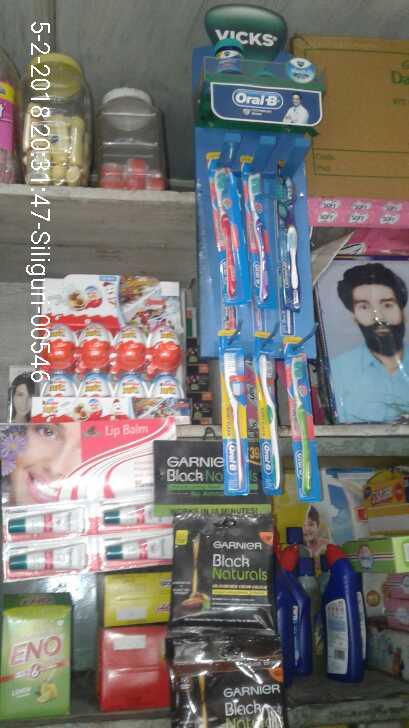pharmacy: (282, 355, 321, 495), (253, 353, 289, 492), (213, 158, 244, 309), (224, 345, 255, 490), (278, 180, 302, 307), (248, 171, 266, 307), (210, 31, 251, 74)
